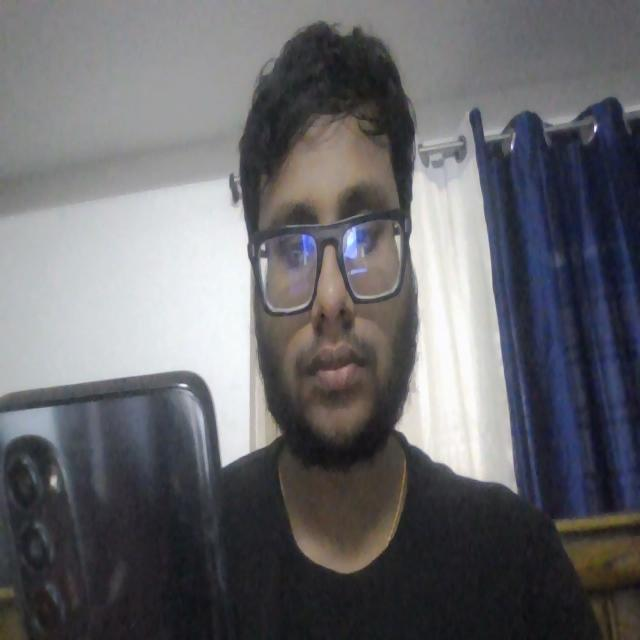phone: (0, 371, 233, 640)
